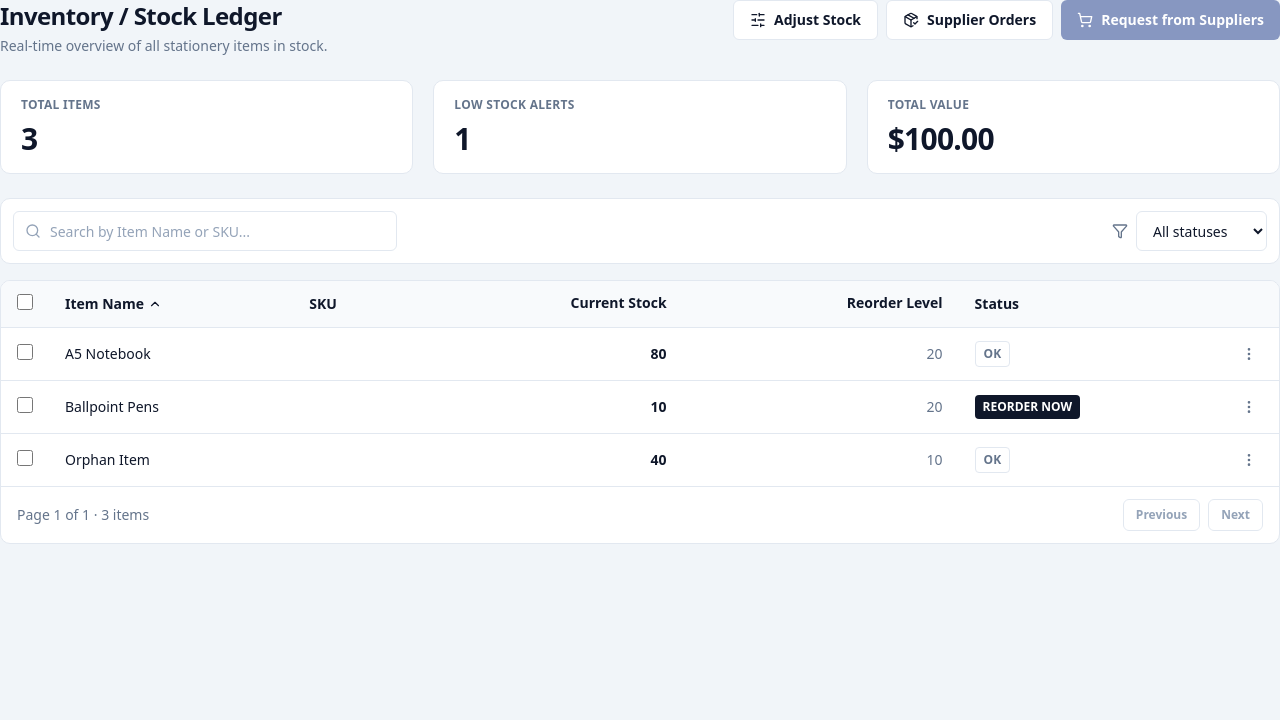
Test case: Inventory supplier-request cart › shows every selected item with its supplier in the review modal
This screenshot has width=1280, height=720.
Expected: the text "Ballpoint Pens" is shown, [49,380,293,434]
Click the checkbox named "Select Ballpoint Pens" at x=25, y=404, box [17,396,33,412]
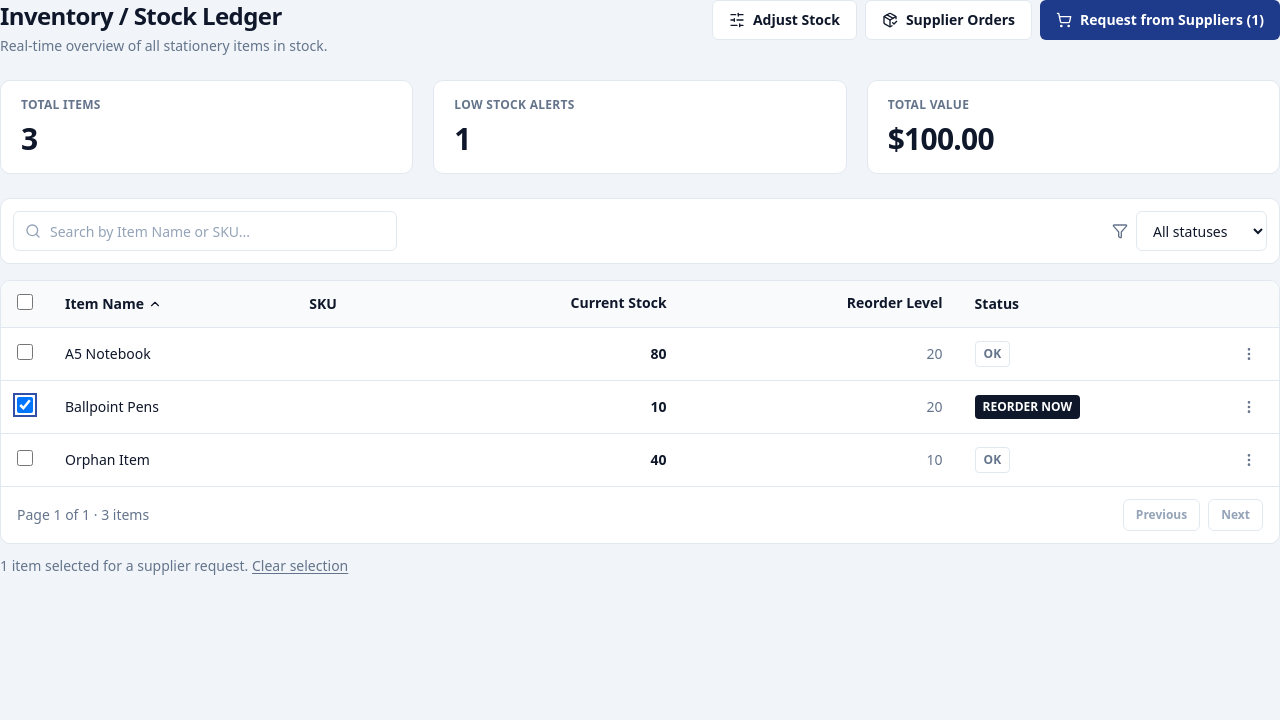
Click the checkbox named "Select A5 Notebook" at x=25, y=352, box [17,344,33,360]
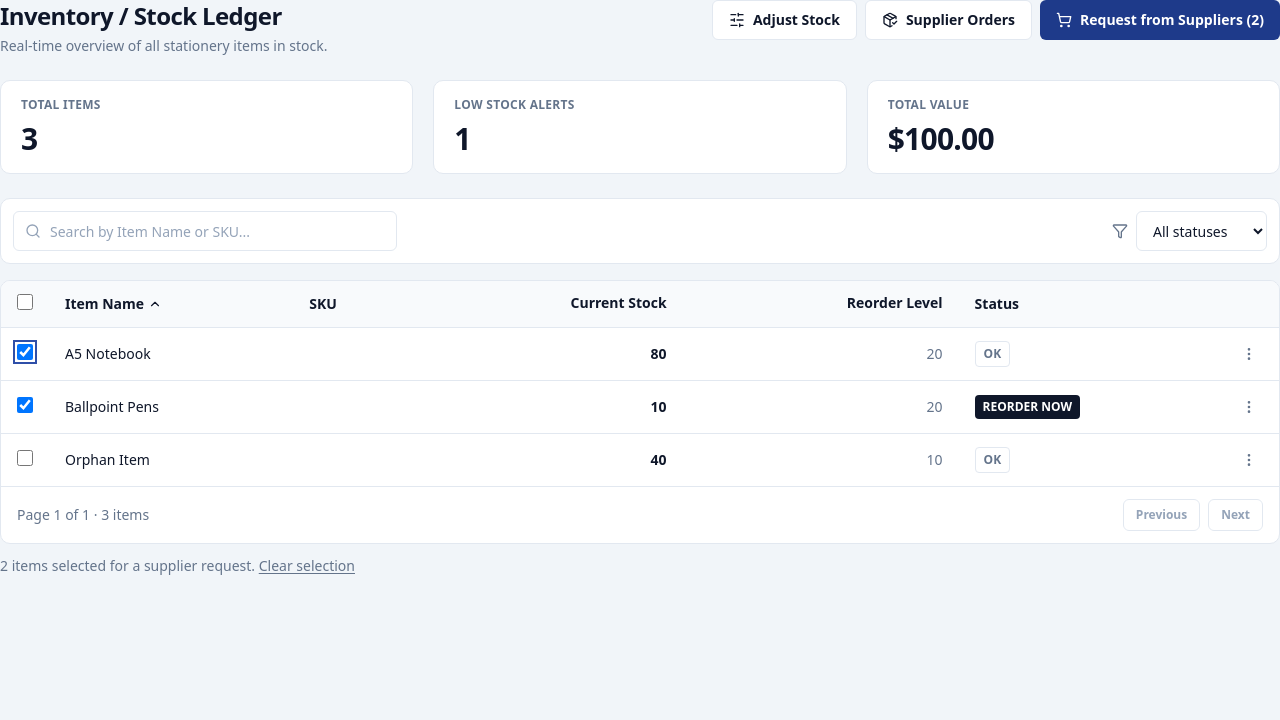
Click the button "Request from Suppliers (2)" at x=1160, y=20, box [1040,0,1279,40]
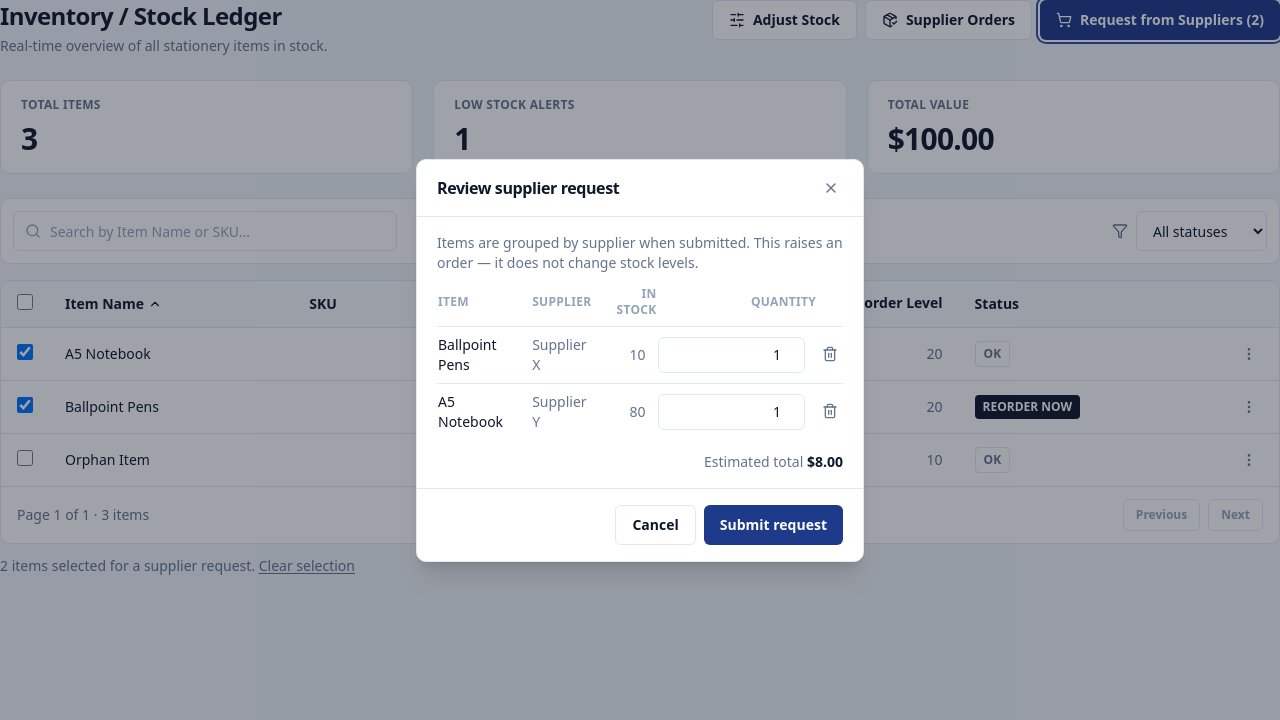
Expected: the text "Ballpoint Pens" is shown, [437,326,531,383]
Expected: the text "Supplier X" is shown, [532,334,587,374]
Expected: the text "A5 Notebook" is shown, [437,383,531,440]
